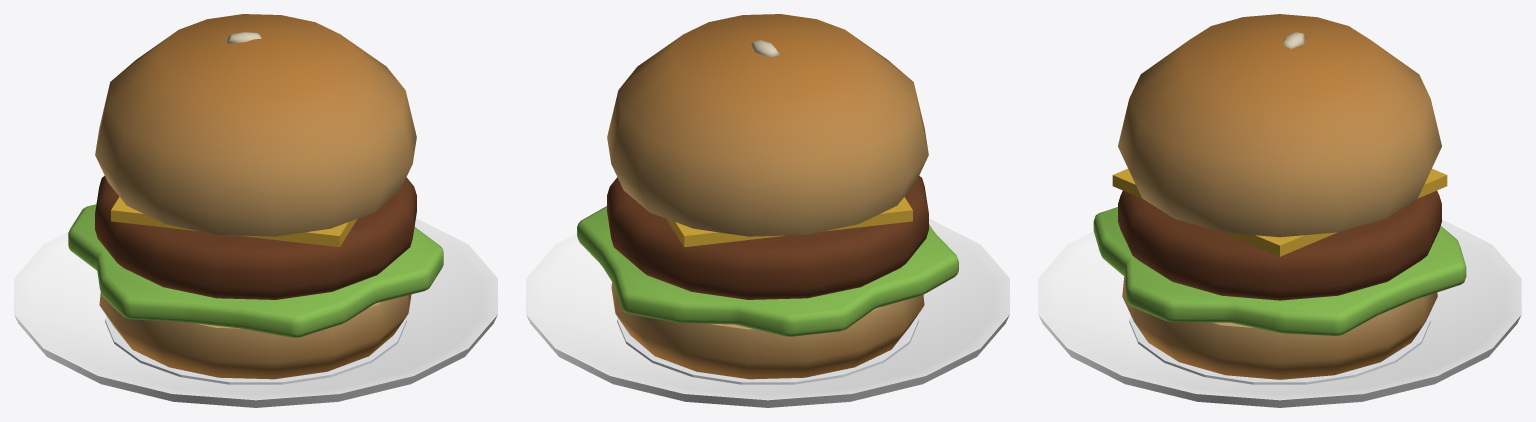
File: dish_burger.glb
3 renders of one model, left to right at view 1: azimuth 30°, elevation 25°; view 2: azimuth 150°, elevation 25°; view 3: azimuth 270°, elevation 25°, orthographic.
Visible parts, largest first — view 1: dish_burger; view 2: dish_burger; view 3: dish_burger.
Boxes of the visible parts, left/top/right/bottom form: dish_burger: left=14, top=14, right=497, bottom=407; dish_burger: left=526, top=14, right=1009, bottom=407; dish_burger: left=1038, top=14, right=1521, bottom=407.
Bounding box in the file's own units: 0.56 × 0.3878 × 0.5515.
